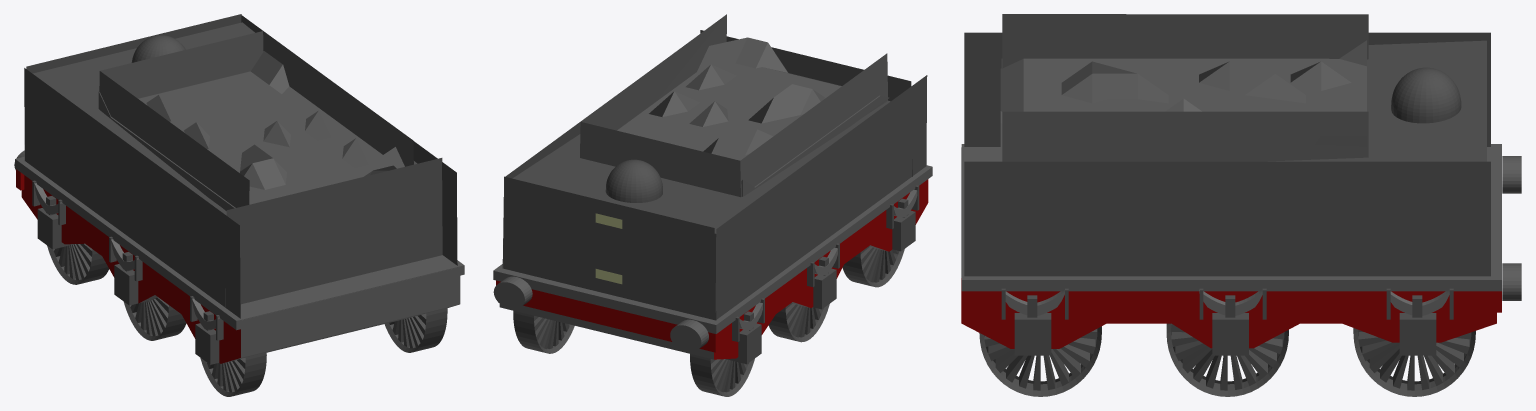
The model's file is lbscr-billinton-tender-goods-black.dae.
The picture shows the model from 3 angles, left to right: view 1: azimuth 30°, elevation 25°; view 2: azimuth 150°, elevation 25°; view 3: azimuth 270°, elevation 25°; orthographic projection. The views are drawn at different scales.
Parts seen in each view (by area): view 1: Plane_002, Plane_055, Plane_028, Plane_013, Plane_001, Plane, Plane_006, Cylinder_000, Plane_017, Cylinder_005, Plane_005, Cylinder_008 (+4 smaller); view 2: Plane_002, Plane_005, Plane_013, Plane_028, Plane_006, Plane, Plane_001, Cylinder_008, Plane_004, Plane_055, Sphere_001, Cylinder_000 (+7 smaller); view 3: Plane_017, Plane_013, Plane_028, Plane_001, Plane_006, Plane, Plane_002, Cylinder_008, Cylinder_005, Cylinder_000, Sphere_001, Cube (+7 smaller).
Part boxes in pixels (x1,y1,x2,y2): Plane_002: (24, 68, 240, 318); Plane_055: (225, 158, 442, 307); Plane_028: (98, 51, 404, 210); Plane_013: (99, 31, 413, 210); Plane_001: (21, 175, 460, 363); Plane: (15, 156, 464, 330); Plane_006: (32, 22, 417, 215); Cylinder_000: (200, 308, 447, 396); Plane_017: (241, 15, 457, 265); Cylinder_005: (124, 297, 186, 340); Plane_005: (24, 14, 241, 160); Cylinder_008: (47, 243, 108, 284); Plane_002: (715, 75, 927, 319); Plane_005: (502, 176, 716, 320); Plane_013: (580, 14, 887, 197); Plane_028: (617, 37, 889, 196); Plane_006: (512, 100, 890, 282); Plane: (493, 165, 932, 333); Plane_001: (499, 179, 928, 359); Cylinder_008: (513, 310, 754, 396); Plane_004: (496, 280, 719, 352); Plane_055: (700, 30, 912, 176); Sphere_001: (605, 159, 662, 202); Cylinder_000: (842, 246, 904, 287); Plane_017: (964, 161, 1490, 276); Plane_013: (1002, 14, 1368, 161); Plane_028: (1000, 40, 1366, 161); Plane_001: (961, 147, 1496, 348); Plane_006: (1001, 40, 1486, 161); Plane: (961, 144, 1501, 291); Plane_002: (964, 32, 1490, 146); Cylinder_008: (1353, 328, 1475, 396); Cylinder_005: (1166, 323, 1288, 396); Cylinder_000: (979, 326, 1101, 396); Sphere_001: (1391, 67, 1461, 123); Cube: (1014, 313, 1051, 355).
Size of the model in its own units: 2.12 by 3.52 by 1.88.
